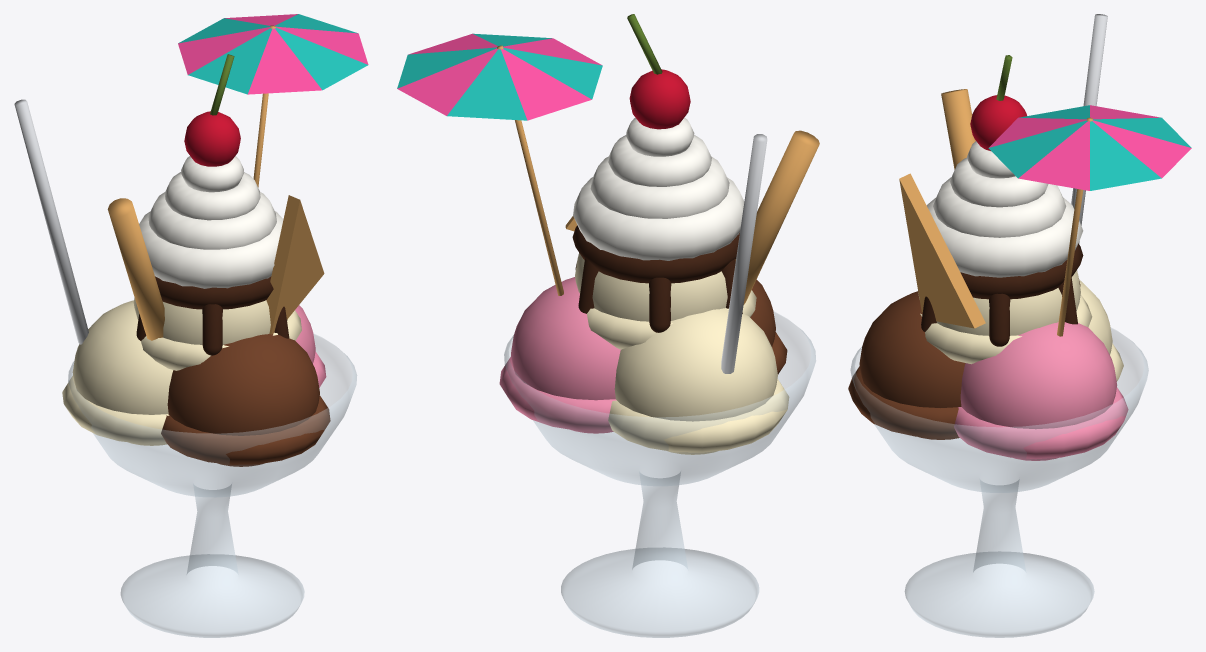
File: ijsje.glb
3 views of the same model, side by side, from view 1: azimuth 30°, elevation 25°; view 2: azimuth 150°, elevation 25°; view 3: azimuth 270°, elevation 25° (orthographic). The views are drawn at different scales.
Parts seen in each view (by area): view 1: IJsje_Topping, IJsje_Scoops, IJsje_Glass, IJsje_Spoon; view 2: IJsje_Topping, IJsje_Scoops, IJsje_Glass, IJsje_Spoon; view 3: IJsje_Topping, IJsje_Scoops, IJsje_Glass, IJsje_Spoon.
Part boxes in pixels (<box>): IJsje_Topping: <box>107,14,368,355</box>; IJsje_Scoops: <box>62,297,330,466</box>; IJsje_Glass: <box>68,334,357,637</box>; IJsje_Spoon: <box>14,99,88,344</box>; IJsje_Topping: <box>397,14,819,332</box>; IJsje_Scoops: <box>499,253,789,454</box>; IJsje_Glass: <box>504,311,815,637</box>; IJsje_Spoon: <box>721,134,767,373</box>; IJsje_Topping: <box>899,55,1191,346</box>; IJsje_Scoops: <box>848,270,1128,460</box>; IJsje_Glass: <box>850,328,1148,637</box>; IJsje_Spoon: <box>1071,14,1107,243</box>.
Size of the model in its own units: 0.1867 by 0.2842 by 0.1596.
